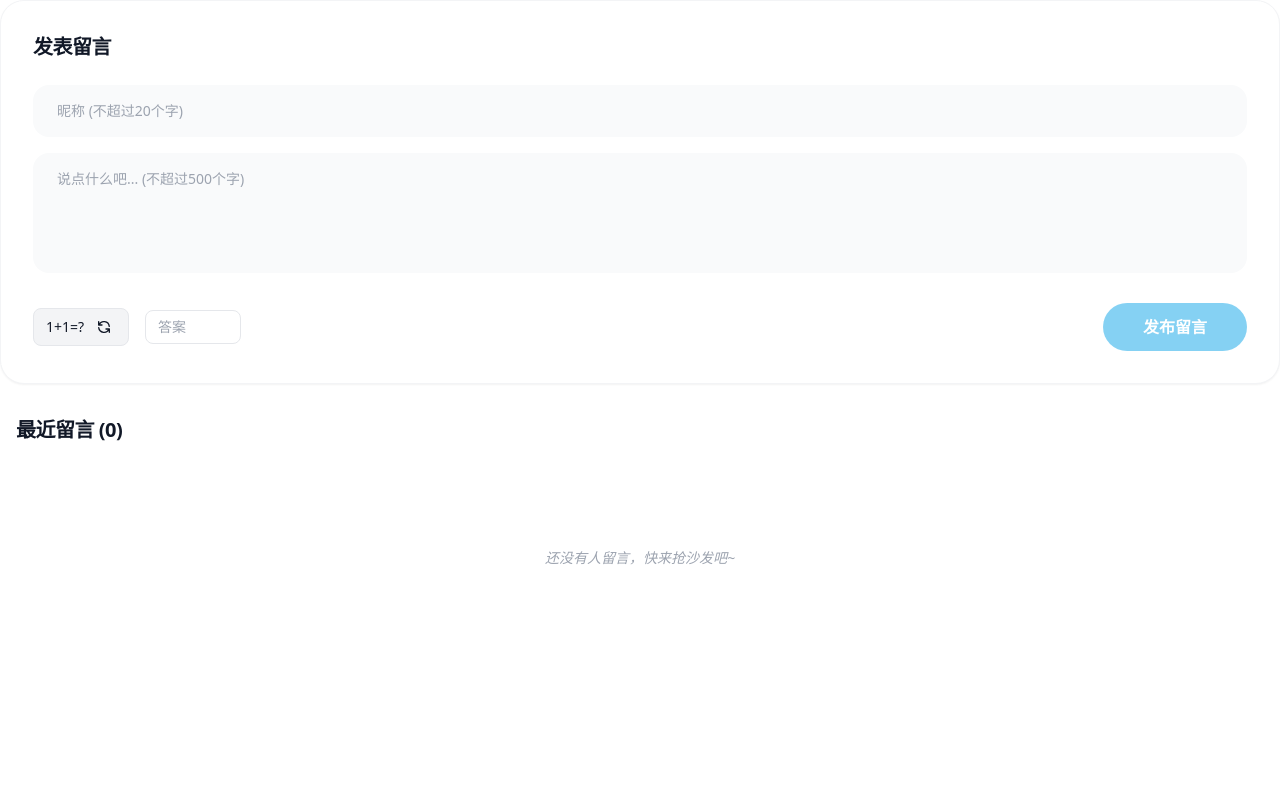
Test: CommentForm › handles fetch error
This screenshot has width=1280, height=800.
Type "User" into the field with placeholder "昵称 (不超过20个字)".
click(640, 111); type("User")  # box x1=33 y1=85 x2=1247 y2=137
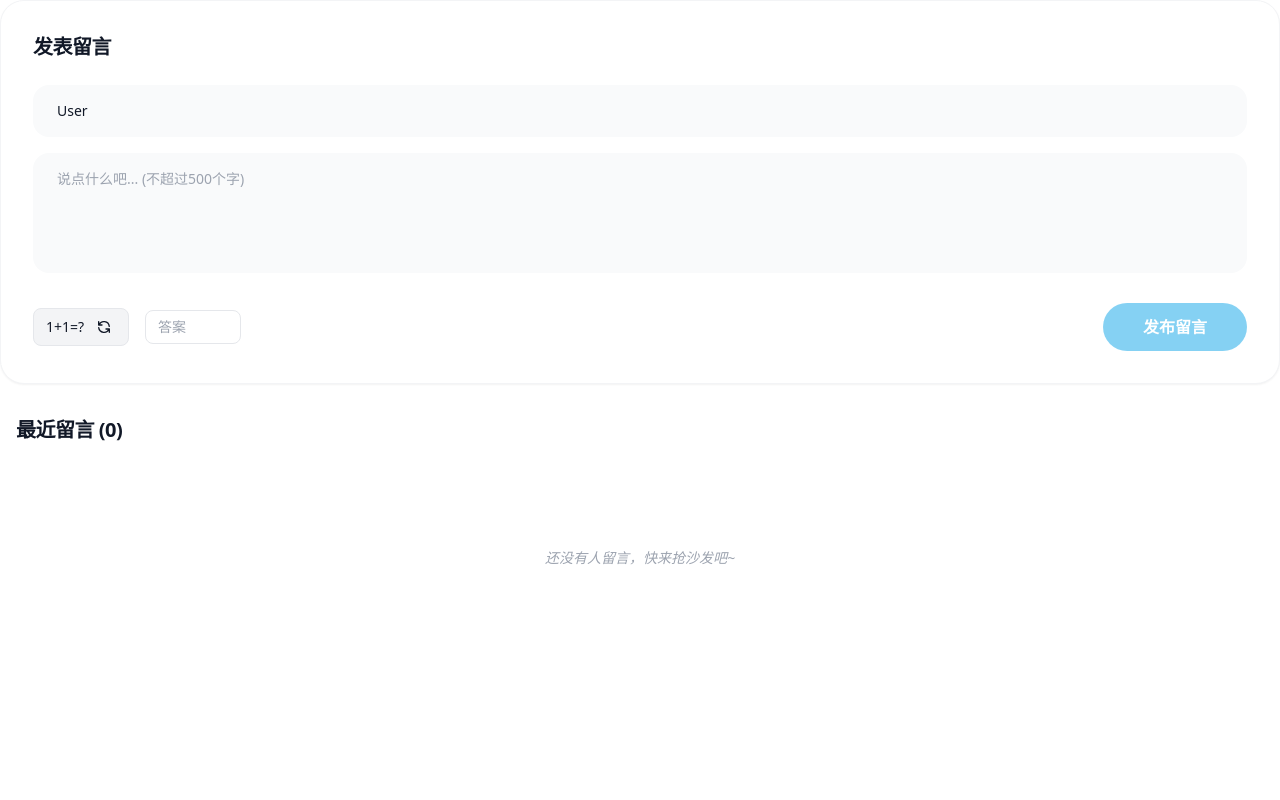
Type "Comment" into the text box with placeholder "说点什么吧... (不超过500个字)".
click(640, 213); type("Comment")  # box x1=33 y1=153 x2=1247 y2=273
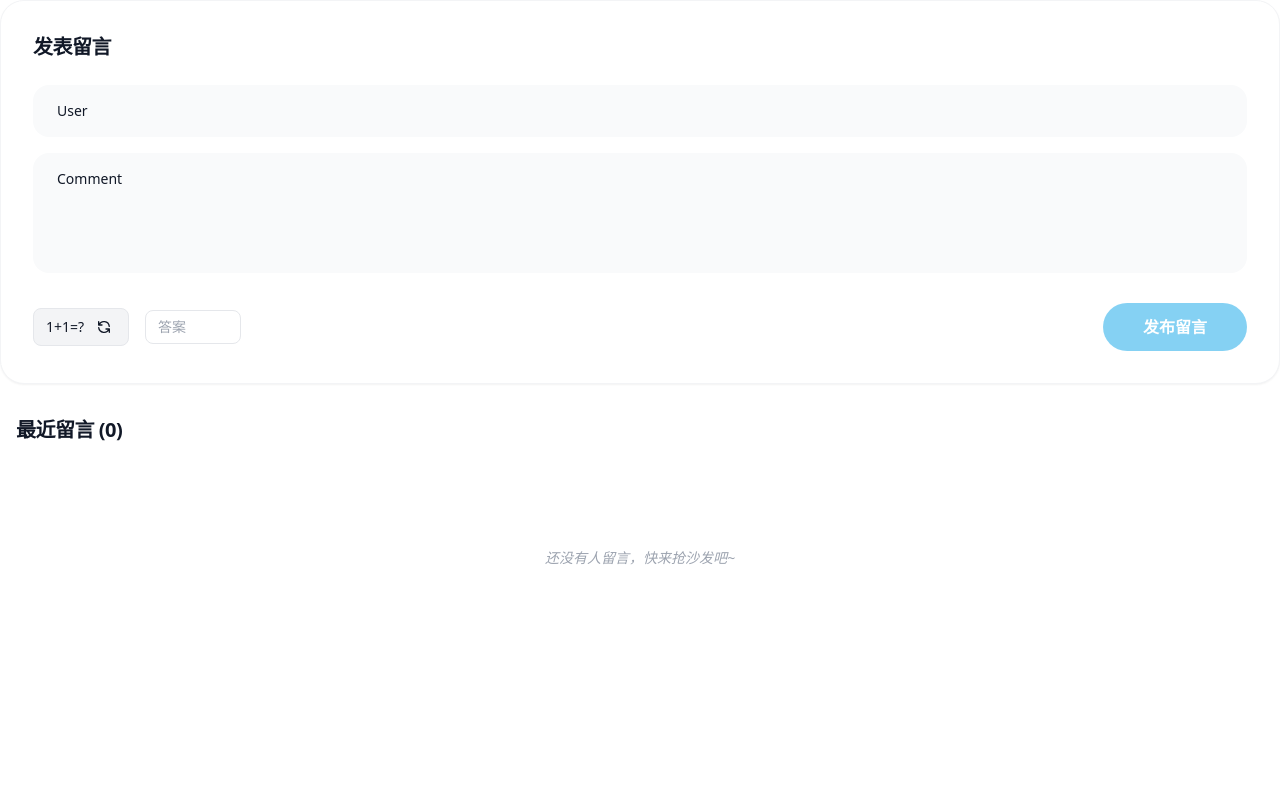
Type "2" into the field with placeholder "答案".
click(193, 327); type("2")  # box x1=145 y1=310 x2=241 y2=344
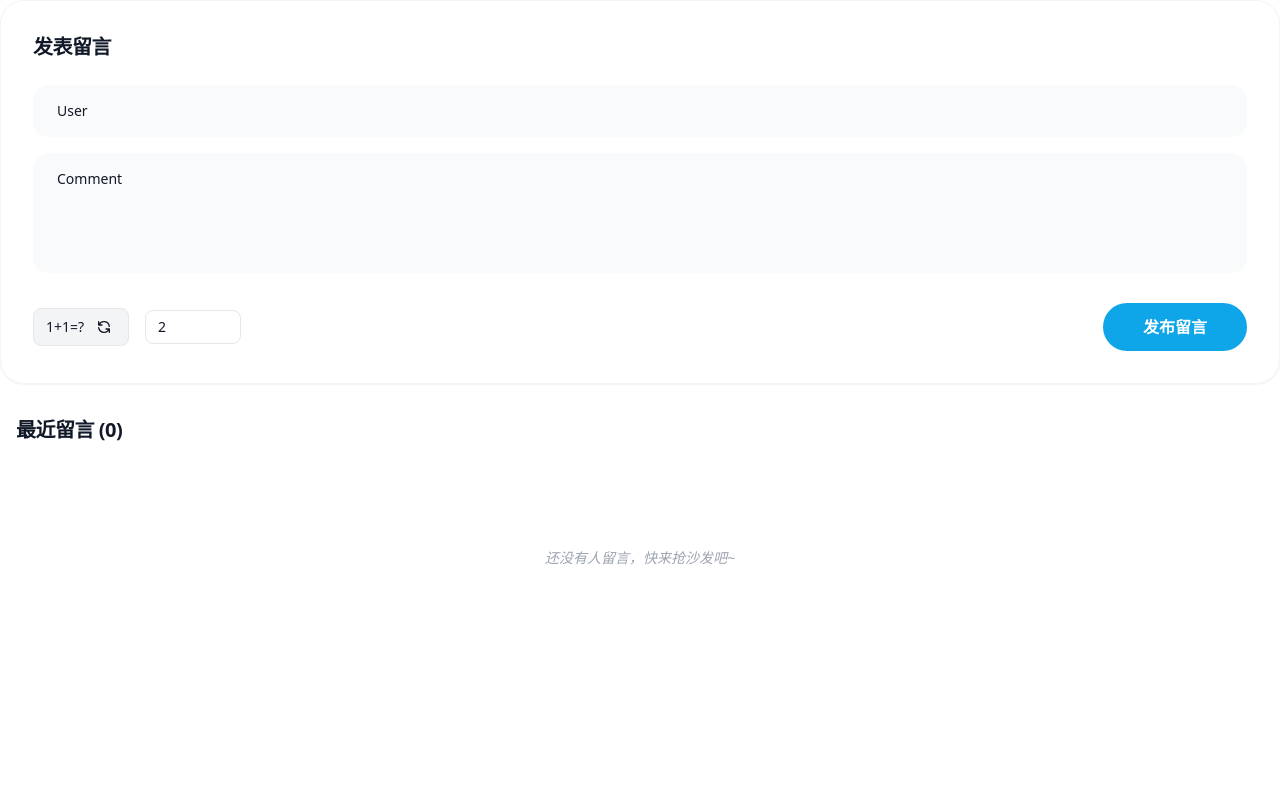
Click the button "发布留言".
click(1175, 327)  # box x1=1103 y1=303 x2=1247 y2=351
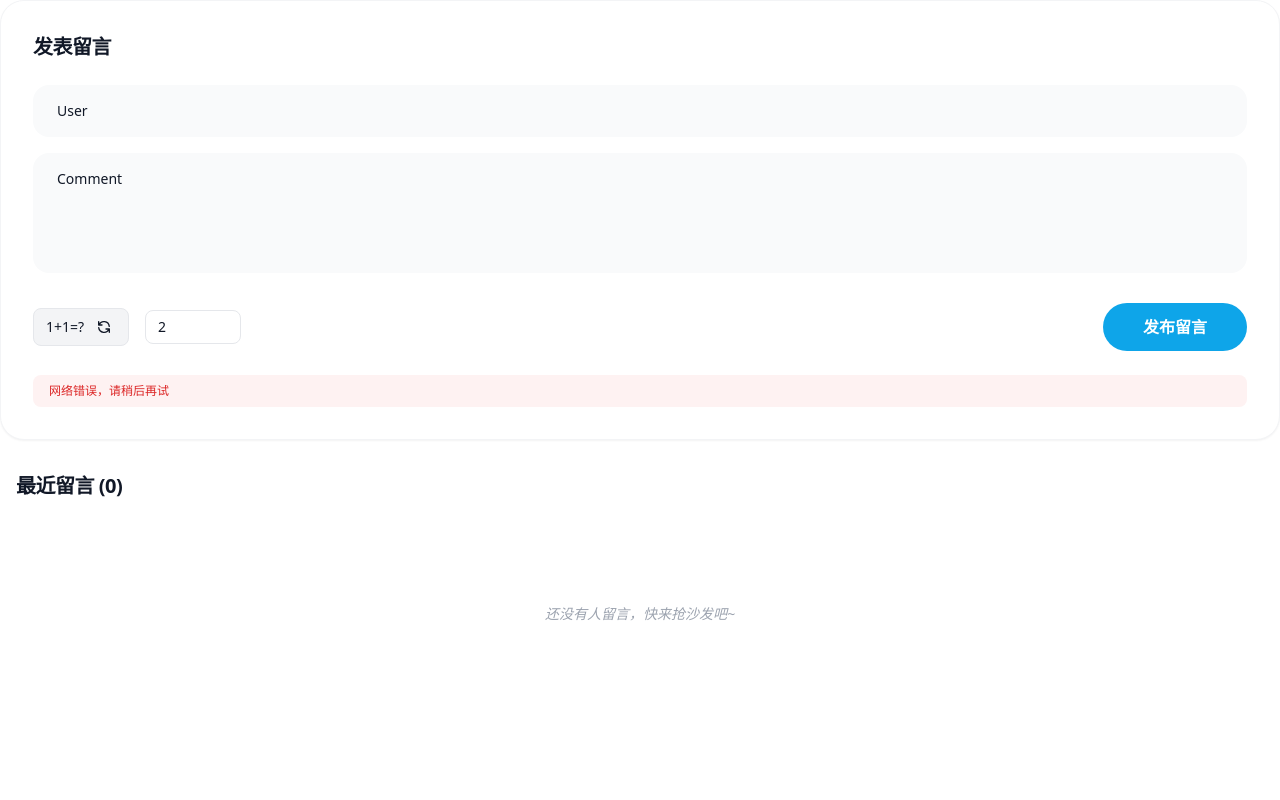
Result: the text "网络错误，请稍后再试" is shown at x1=33 y1=375 x2=1247 y2=407
